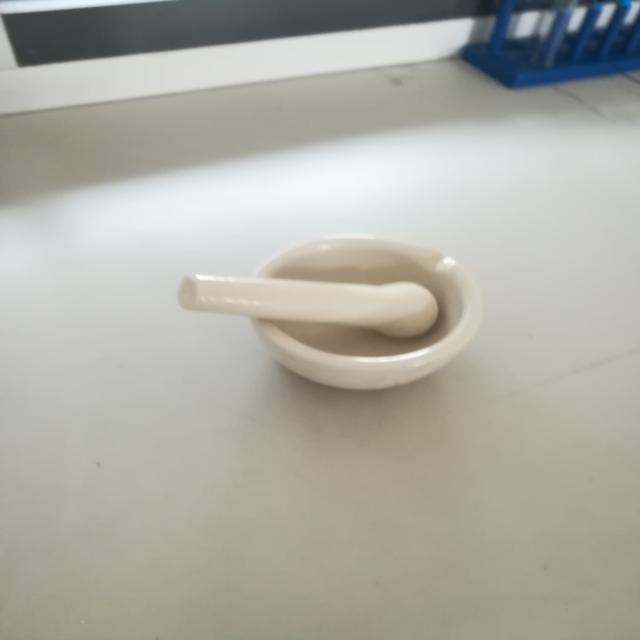Porcelain_Mortar Pestle: (144, 204, 542, 430)
